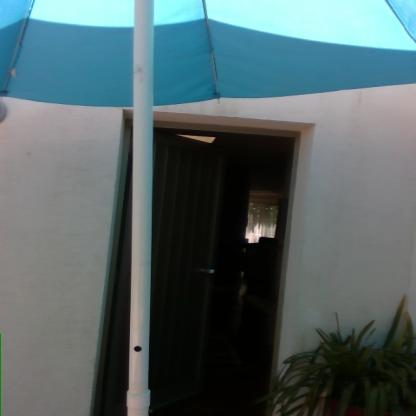open: (125, 97, 329, 416)
